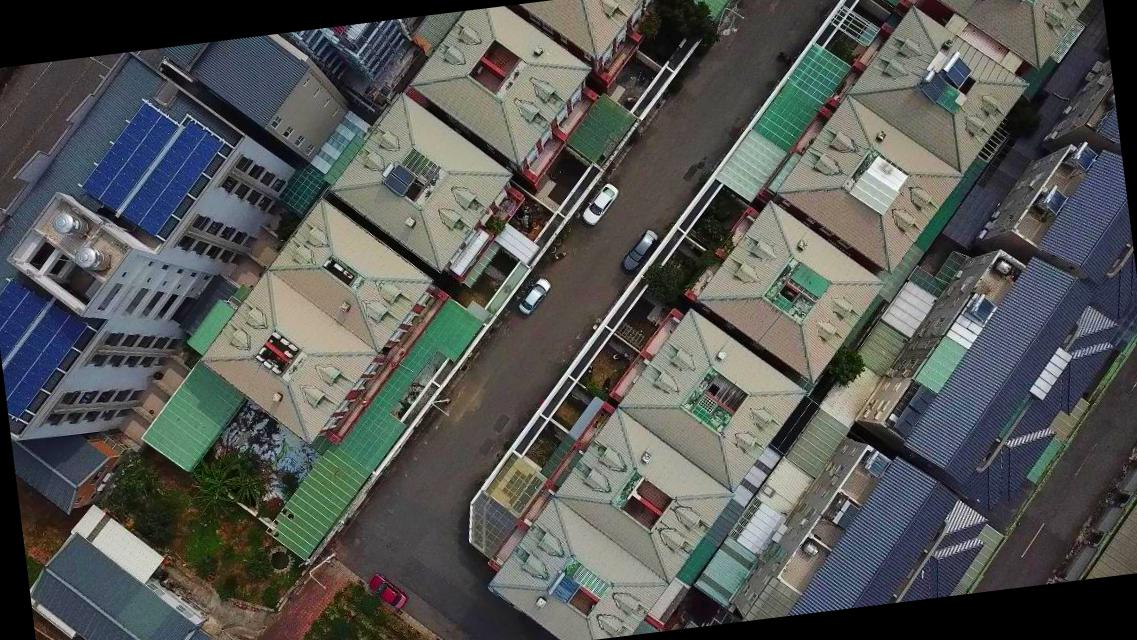vehicle: (618, 226, 663, 276), (578, 178, 622, 225), (364, 569, 408, 613), (515, 275, 554, 317)
